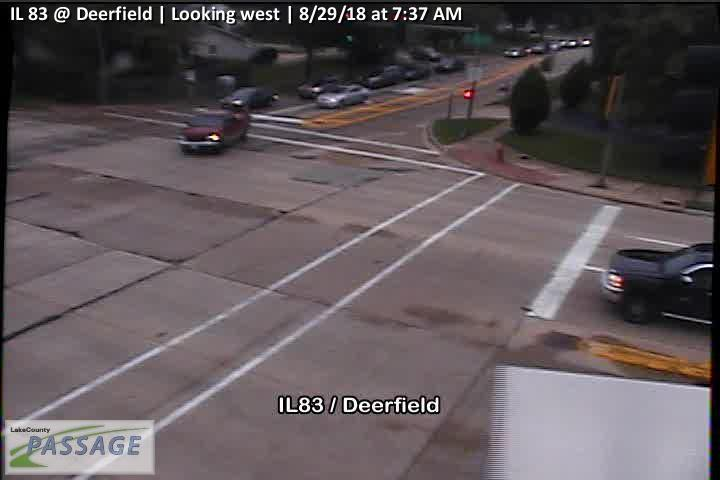SUV: (298, 74, 338, 99)
Sedan: (601, 241, 713, 329), (177, 106, 248, 157), (222, 86, 280, 109), (316, 84, 370, 108)
